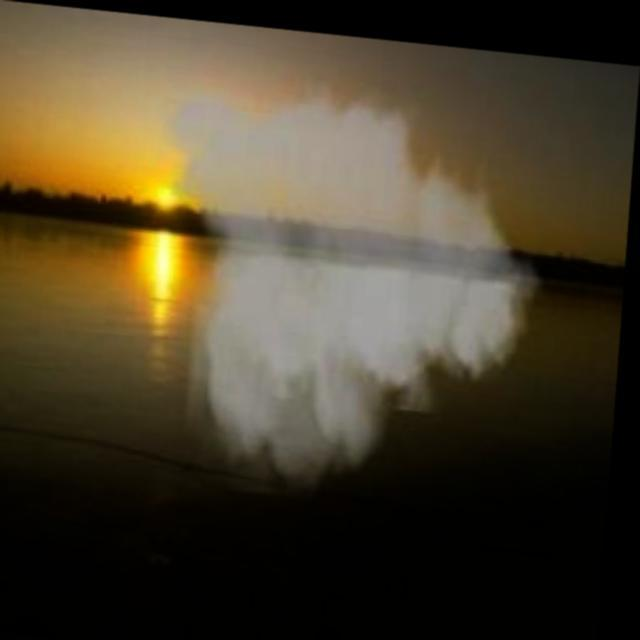Smoke: (154, 70, 562, 524)
